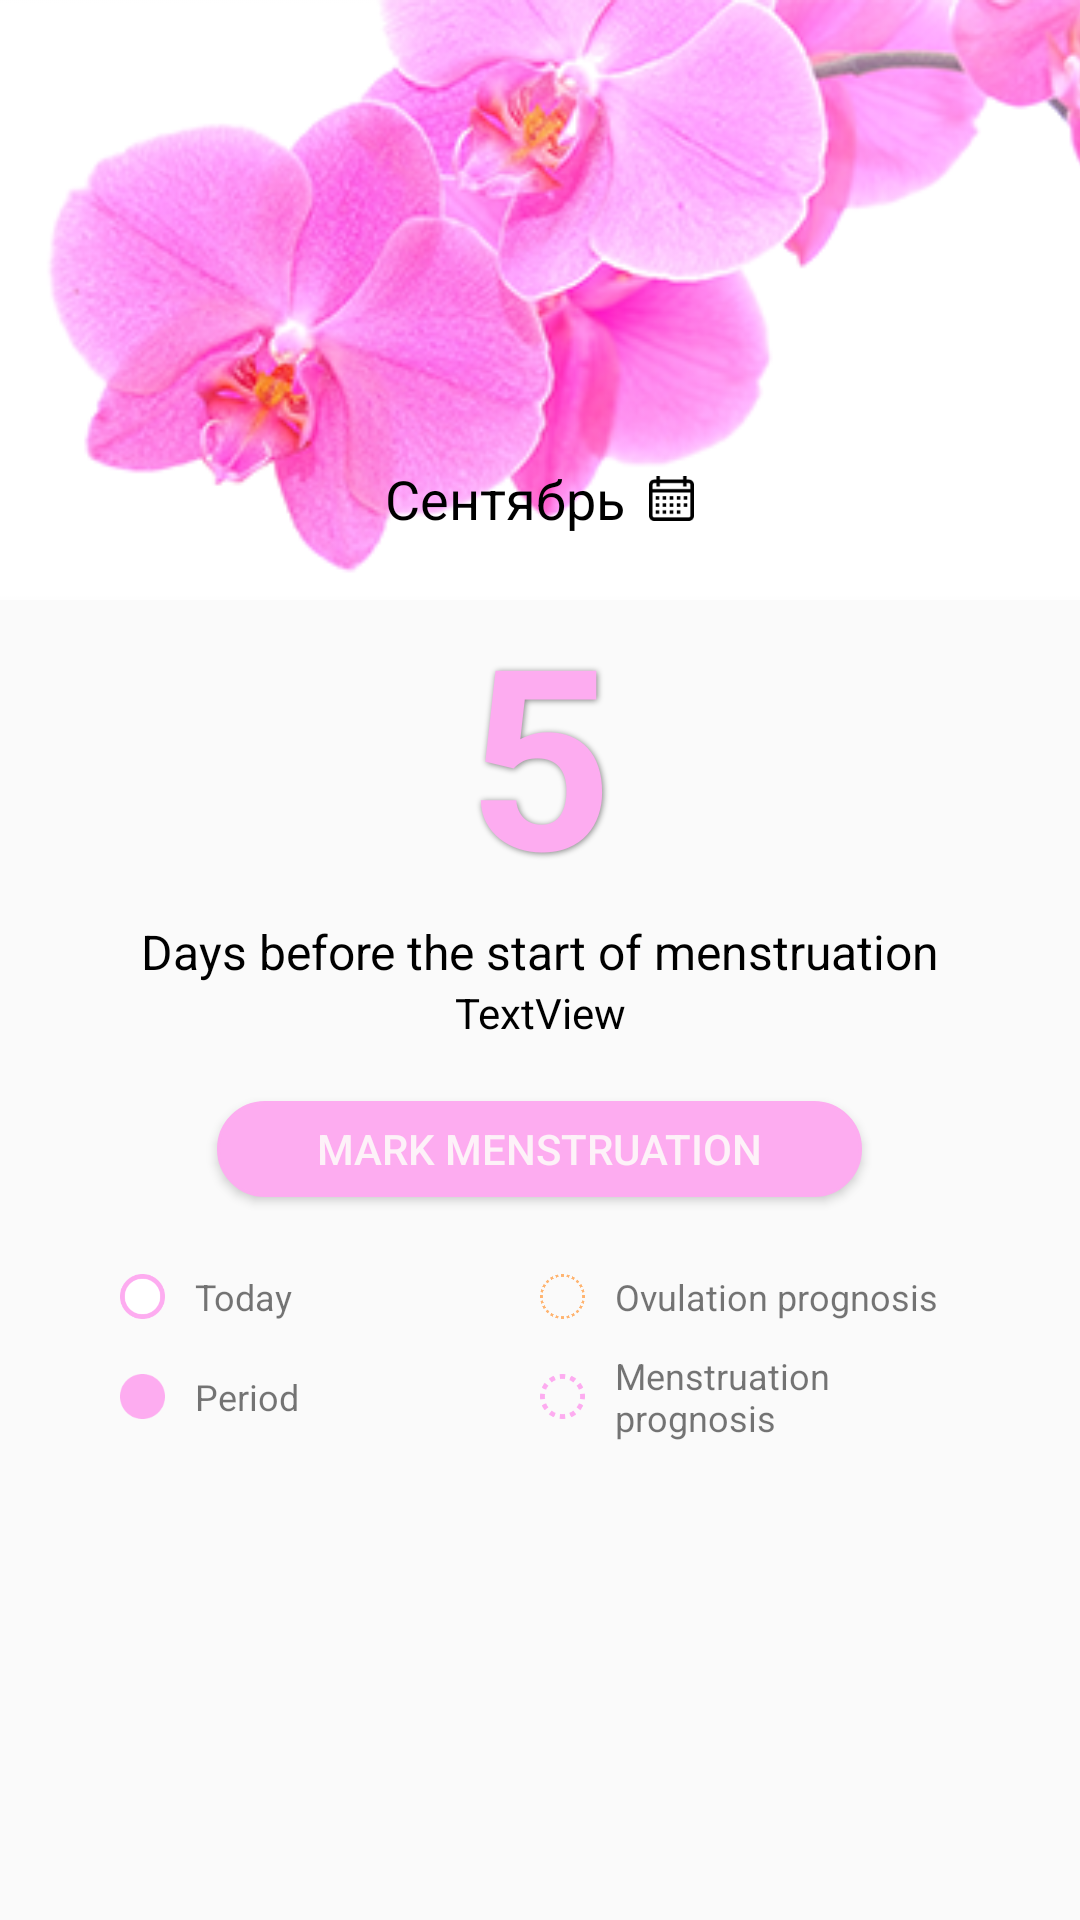

Icons on this 1080 × 1920 Android screen, each with the point to tap as [x,y]:
calendar: [671,498]
circle: [142,1296], [562,1296], [142,1396], [562,1396]
